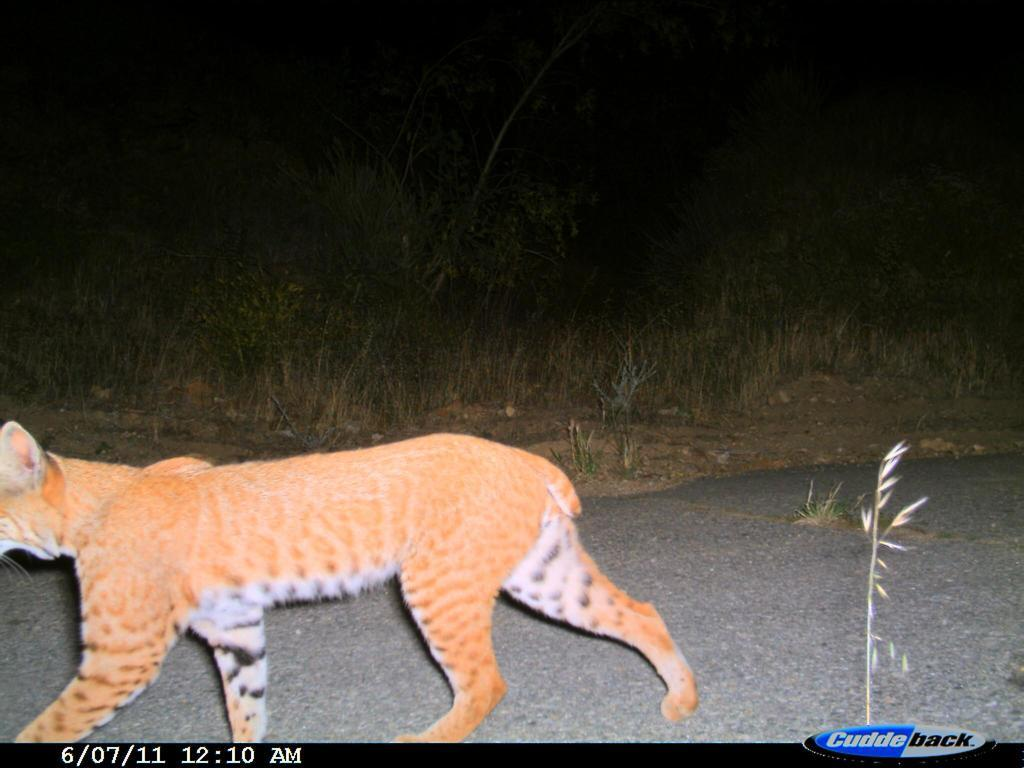bobcat: (2, 418, 703, 734)
